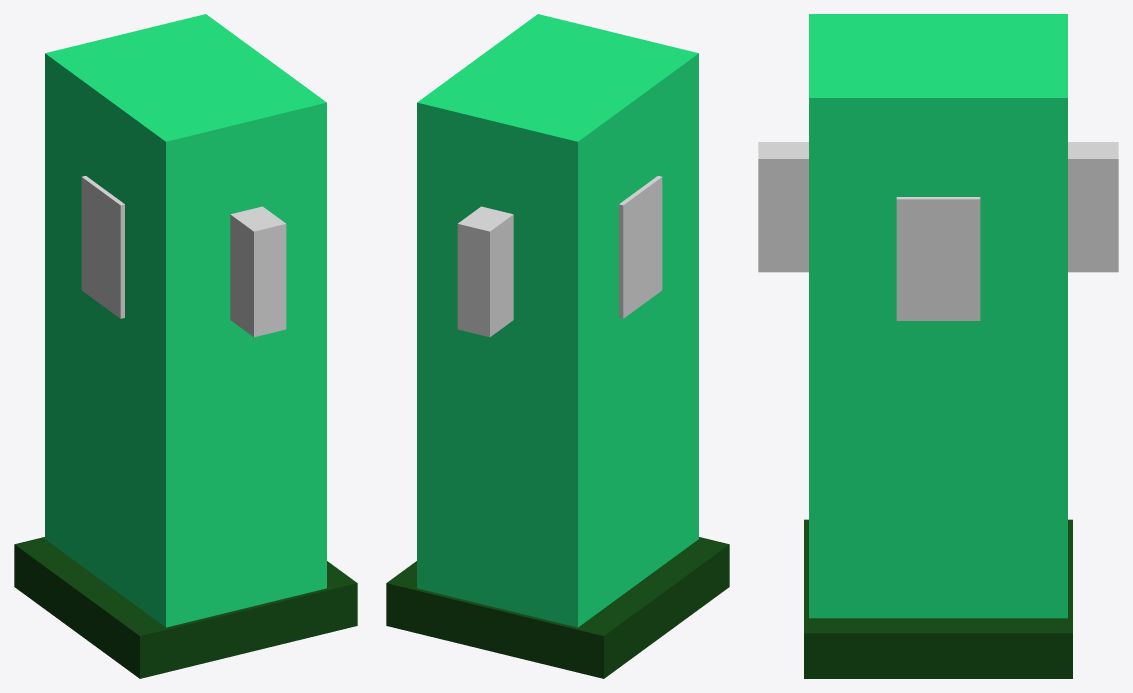
Rendered from epile_draco.gltf.
The picture shows the model from 3 angles, left to right: view 1: azimuth 30°, elevation 25°; view 2: azimuth 150°, elevation 25°; view 3: azimuth 270°, elevation 25°; orthographic projection. The views are drawn at different scales.
Parts seen in each view (by area): view 1: Cube, 立方体.005, 立方体.004, 立方体.006; view 2: Cube, 立方体.005, 立方体.004, 立方体.006; view 3: Cube, 立方体.005, 立方体.004, 立方体.006.
Part boxes in pixels (left/top/right/bottom): Cube: left=45, top=14, right=326, bottom=627; 立方体.005: left=14, top=537, right=357, bottom=678; 立方体.004: left=230, top=206, right=286, bottom=337; 立方体.006: left=81, top=176, right=124, bottom=318; Cube: left=417, top=14, right=698, bottom=627; 立方体.005: left=386, top=537, right=729, bottom=678; 立方体.004: left=457, top=206, right=513, bottom=337; 立方体.006: left=619, top=176, right=662, bottom=318; Cube: left=809, top=14, right=1067, bottom=618; 立方体.005: left=804, top=519, right=1072, bottom=678; 立方体.004: left=758, top=142, right=1118, bottom=272; 立方体.006: left=896, top=197, right=980, bottom=320.
Size of the model in its own units: 2.7 by 6.28 by 3.62.
